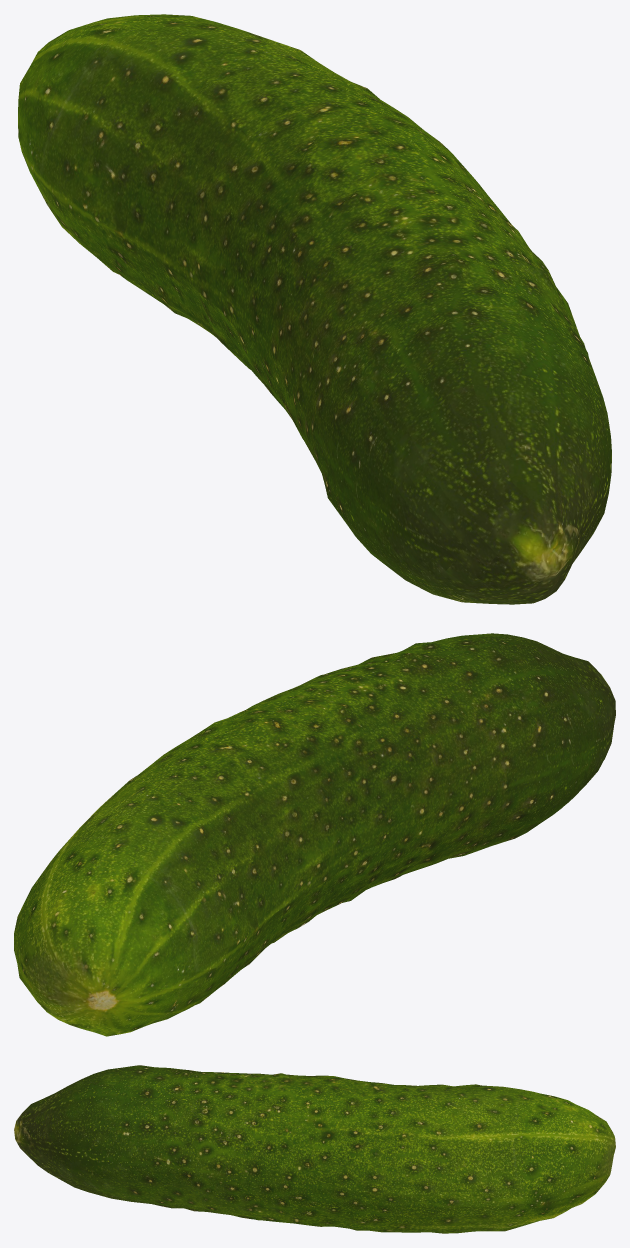
3 views of the same model, one above another, from view 1: azimuth 30°, elevation 25°; view 2: azimuth 150°, elevation 25°; view 3: azimuth 270°, elevation 25° (orthographic). The views are drawn at different scales.
Visible parts, largest first — view 1: n1; view 2: n1; view 3: n1.
Part boxes in pixels (box(x1,y1,x2,y2)): n1: box(18, 14, 611, 604); n1: box(14, 633, 615, 1036); n1: box(14, 1065, 615, 1233).
Size of the model in its own units: 0.3171 by 0.2223 by 0.9.
Materials: 1 (1 with a texture image).
